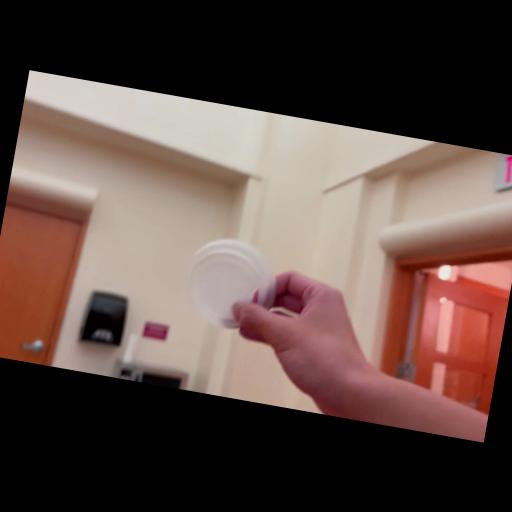lp_cup_lids: (176, 230, 286, 340)
